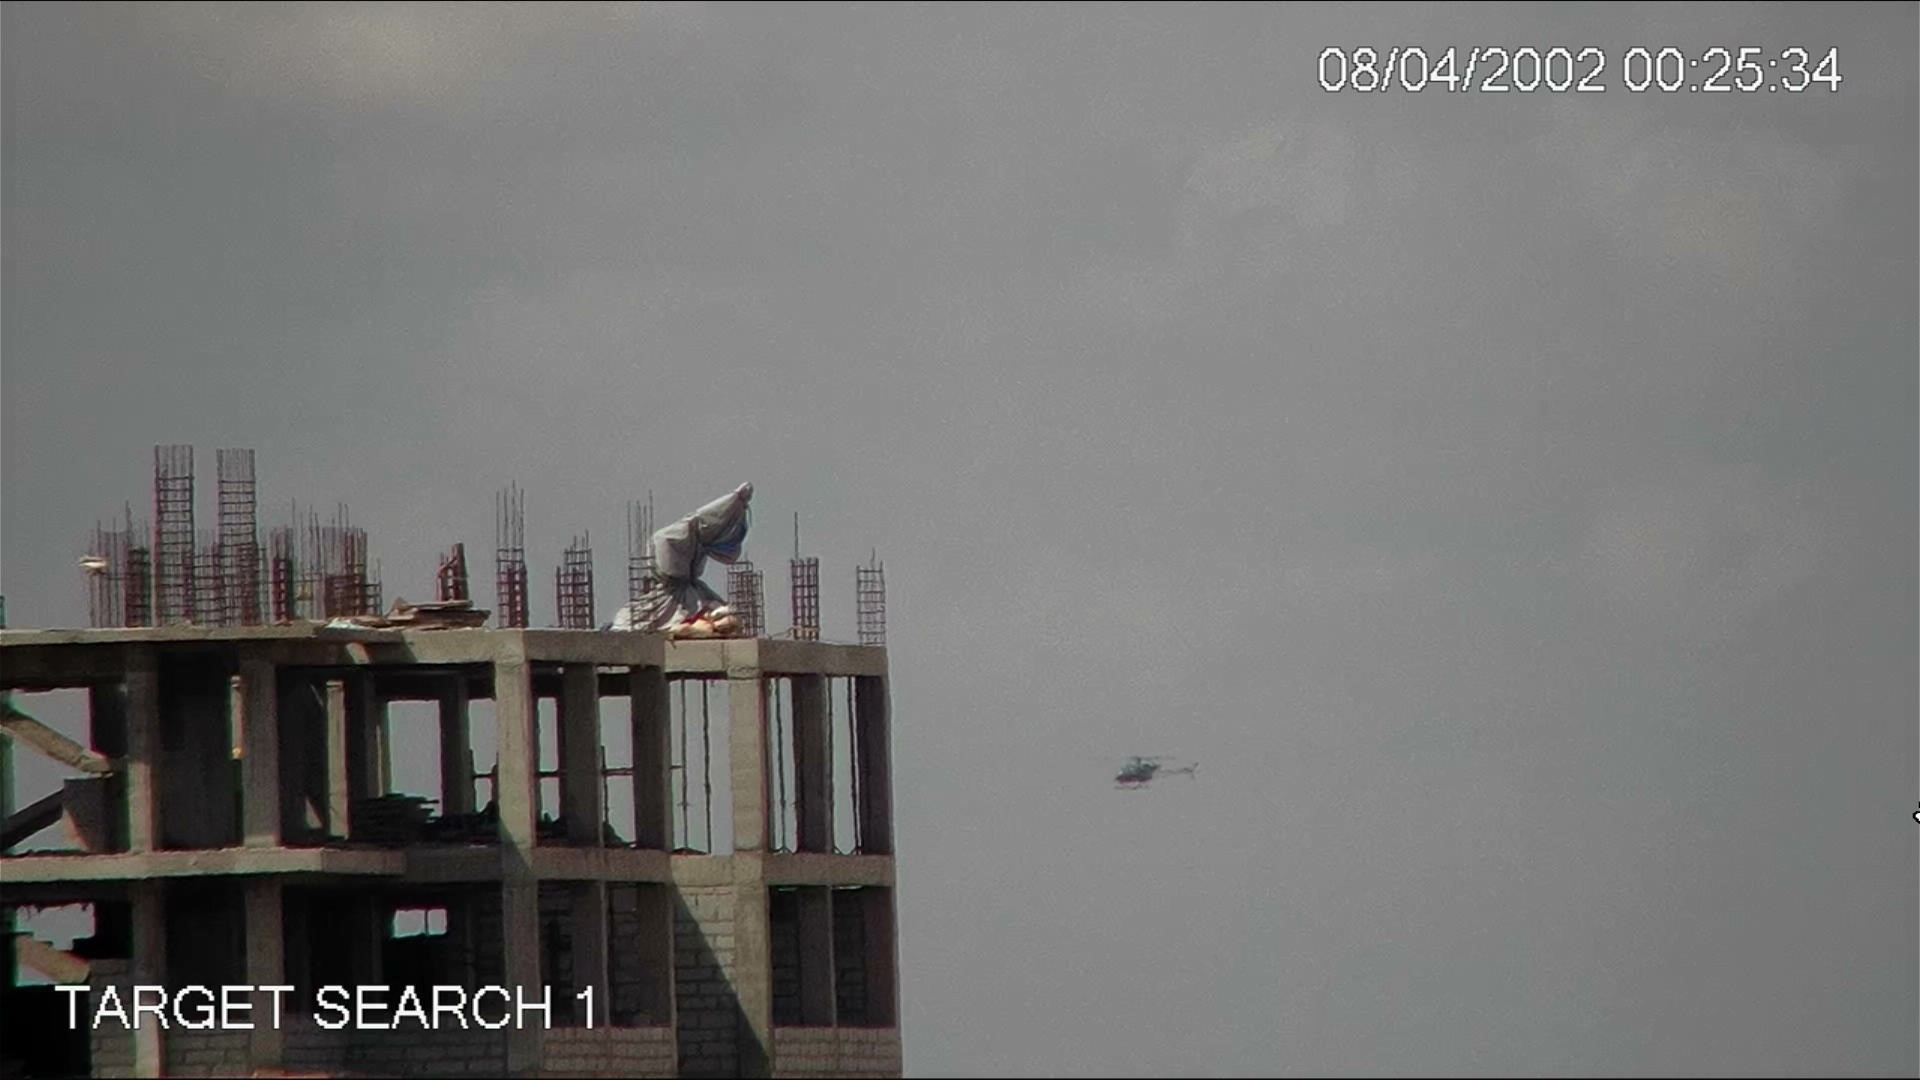SU_30: (1105, 752, 1205, 796)
